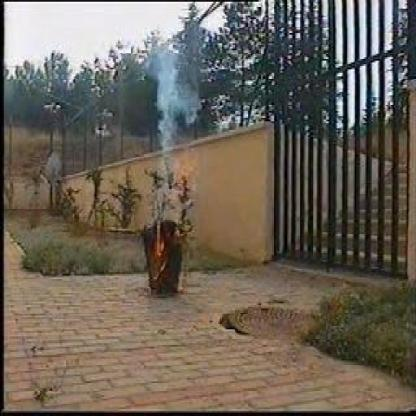-: (155, 38, 186, 153)
foggia-v2-map80-epoch100 - v1 4323: (153, 225, 172, 260)
